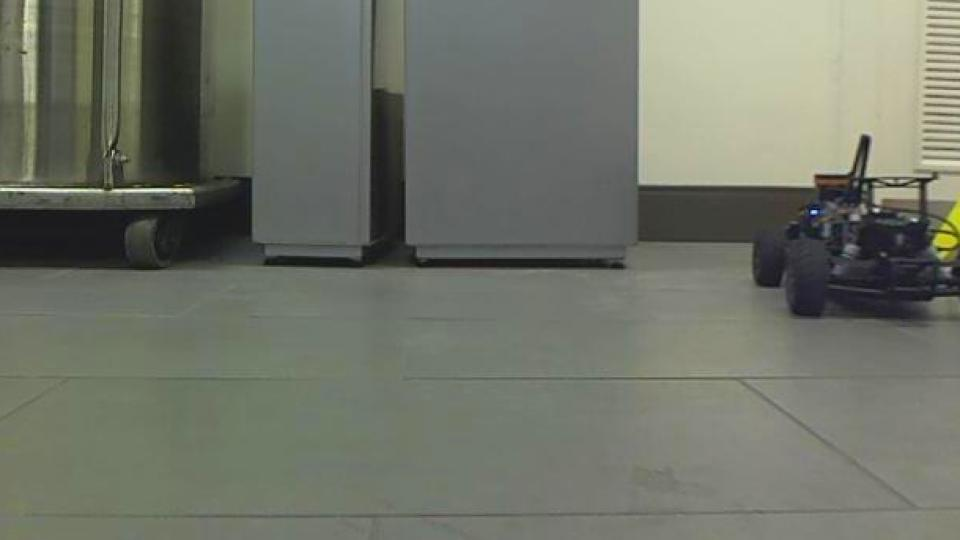car: (749, 131, 960, 322)
